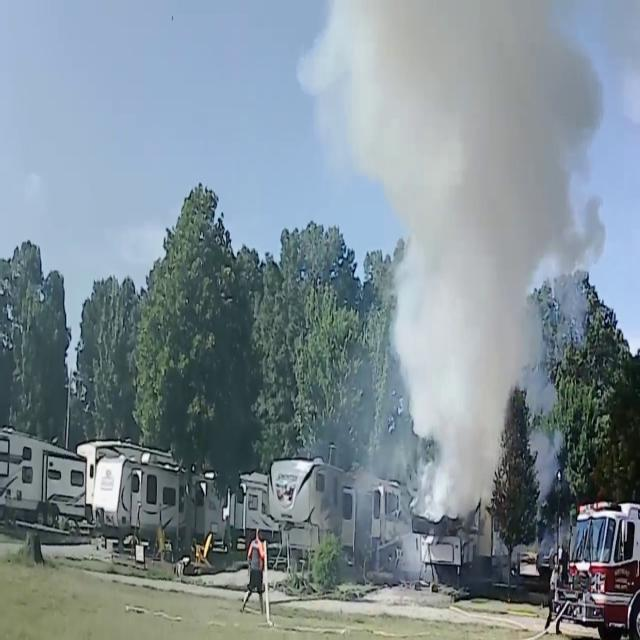Smoke: (338, 1, 608, 532)
